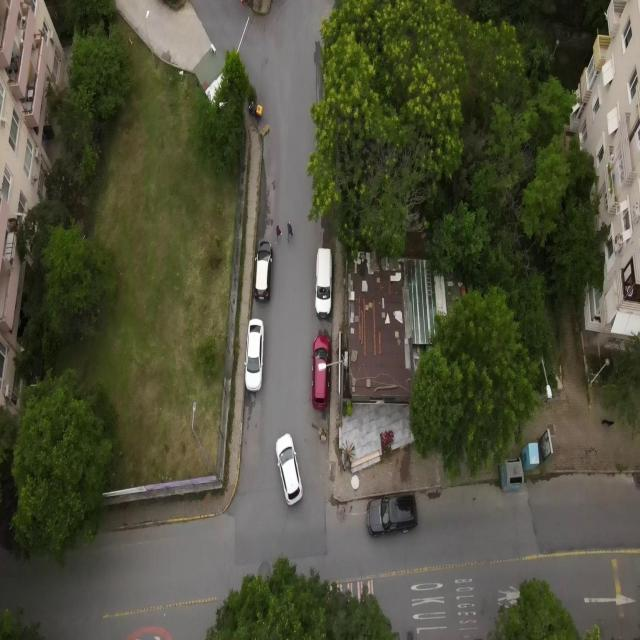p3rson: (286, 220, 294, 243), (274, 222, 282, 244)
